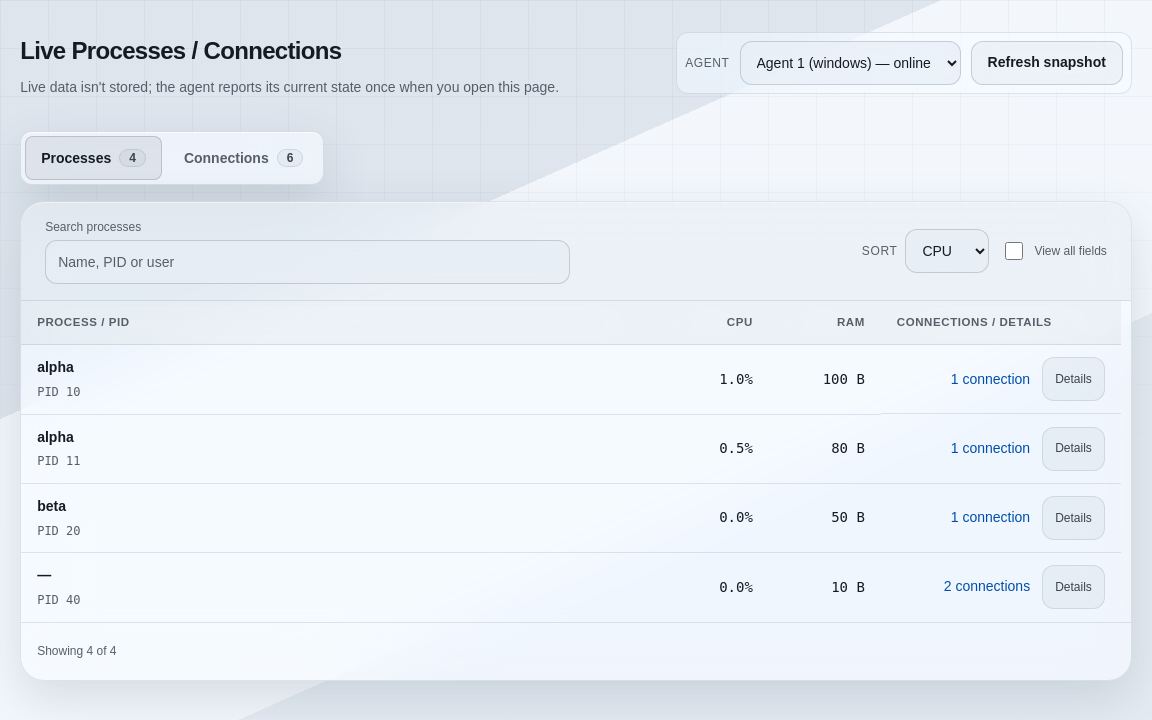
Scenario: Processes network-connection filtering › keeps process identity cells in the table layout in all-fields mode
Click the checkbox labelled "View all fields". click: (1014, 251)
box: [1005,242,1023,260]
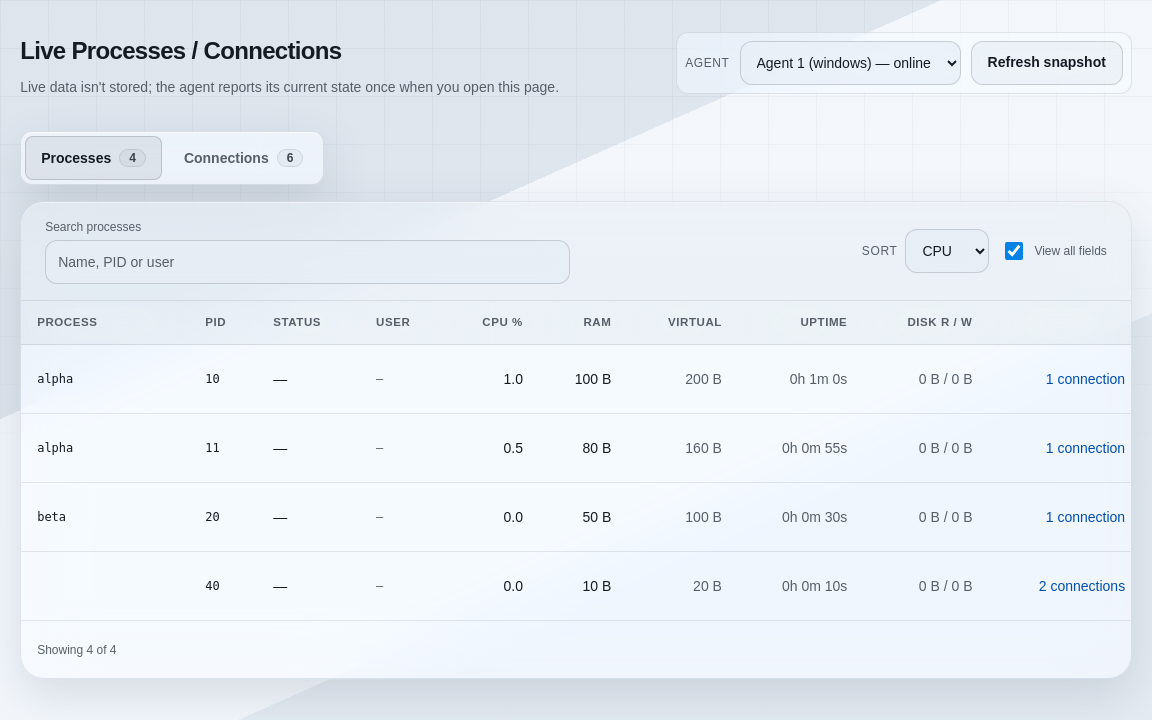
Expected: the text with class "truncate" in the row of "1.0" reads "alpha", [37,372,73,386]
Expected: the cell "10" is shown, [189,346,257,414]
